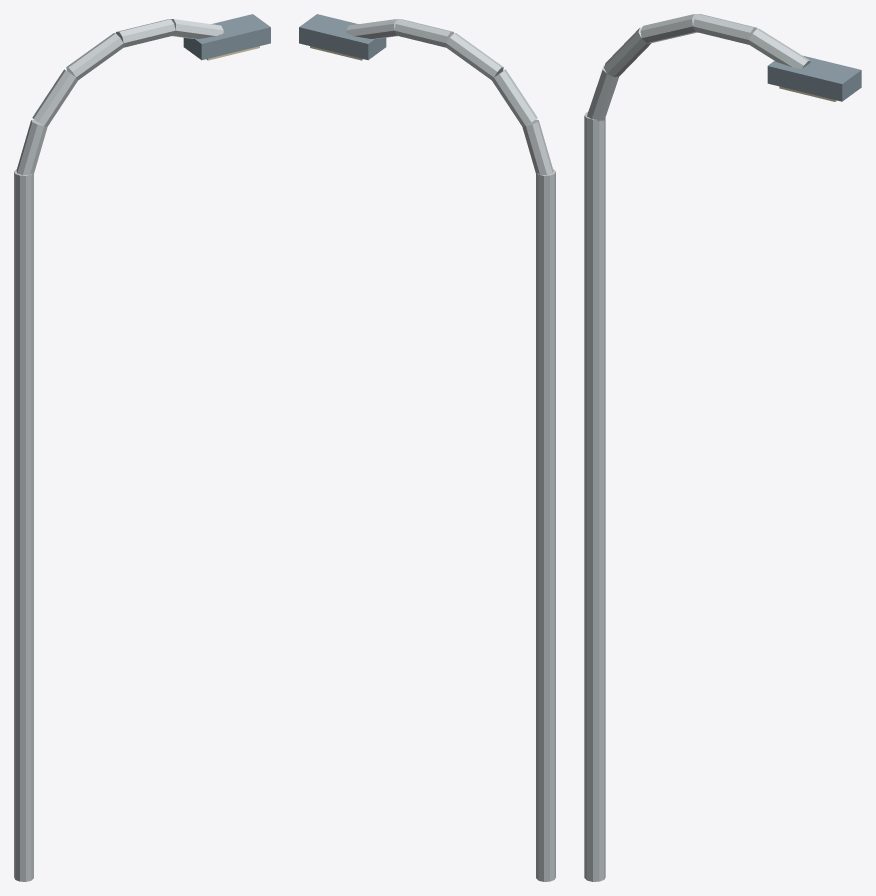
File: arched_white_lamp.glb
3 views of the same model, side by side, from view 1: azimuth 30°, elevation 25°; view 2: azimuth 150°, elevation 25°; view 3: azimuth 330°, elevation 25° (orthographic). The views are drawn at different scales.
Visible parts, largest first — view 1: arched_white_lamp; view 2: arched_white_lamp; view 3: arched_white_lamp.
Part boxes in pixels (x1,y1,x2,y2): arched_white_lamp: (14,14,270,881); arched_white_lamp: (299,14,555,881); arched_white_lamp: (584,14,861,881).
Bounding box in the file's own units: 2.85 × 9.09 × 0.36.
